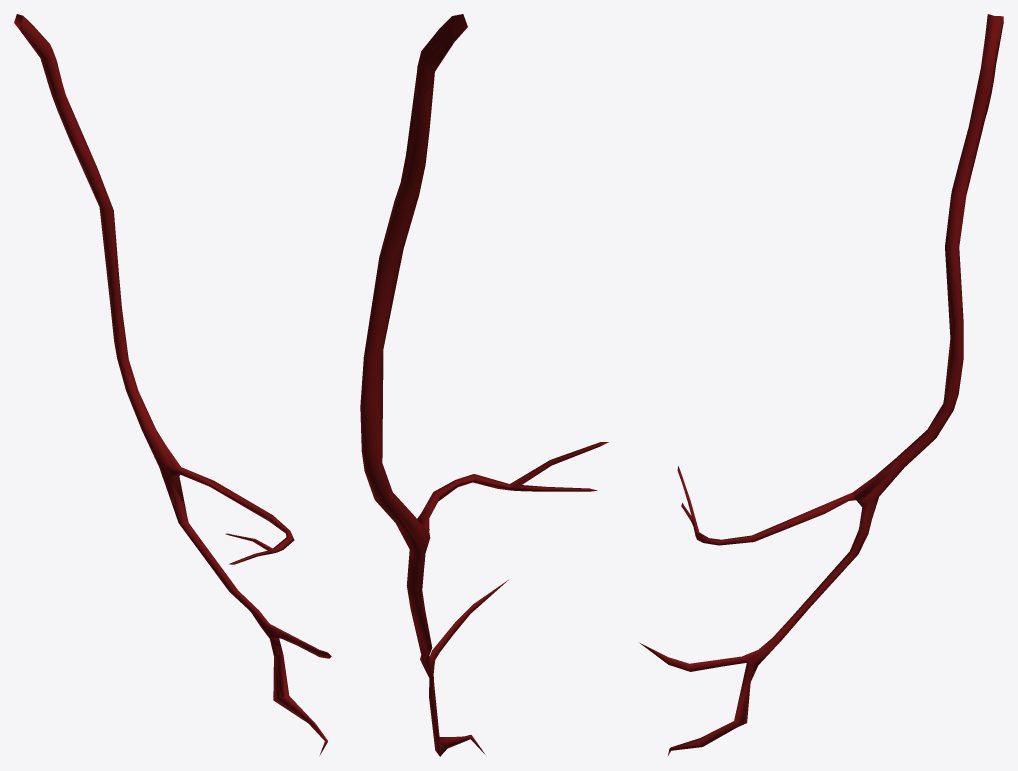
Rendered from R digitales medialis.fbx.
3 views of the same model, side by side, from view 1: azimuth 30°, elevation 25°; view 2: azimuth 150°, elevation 25°; view 3: azimuth 270°, elevation 25° (orthographic). The views are drawn at different scales.
Visible parts, largest first — view 1: R digitales medialis, R digitales medialis low; view 2: R digitales medialis, R digitales medialis low; view 3: R digitales medialis, R digitales medialis low.
Part boxes in pixels (x1=…): R digitales medialis: x1=14, y1=14, x2=331, y2=755; R digitales medialis low: x1=17, y1=14, x2=323, y2=733; R digitales medialis: x1=360, y1=14, x2=608, y2=756; R digitales medialis low: x1=369, y1=14, x2=595, y2=746; R digitales medialis: x1=640, y1=14, x2=1003, y2=756; R digitales medialis low: x1=677, y1=16, x2=1003, y2=746.
Size of the model in its own units: 2.35 by 9.46 by 4.66.
